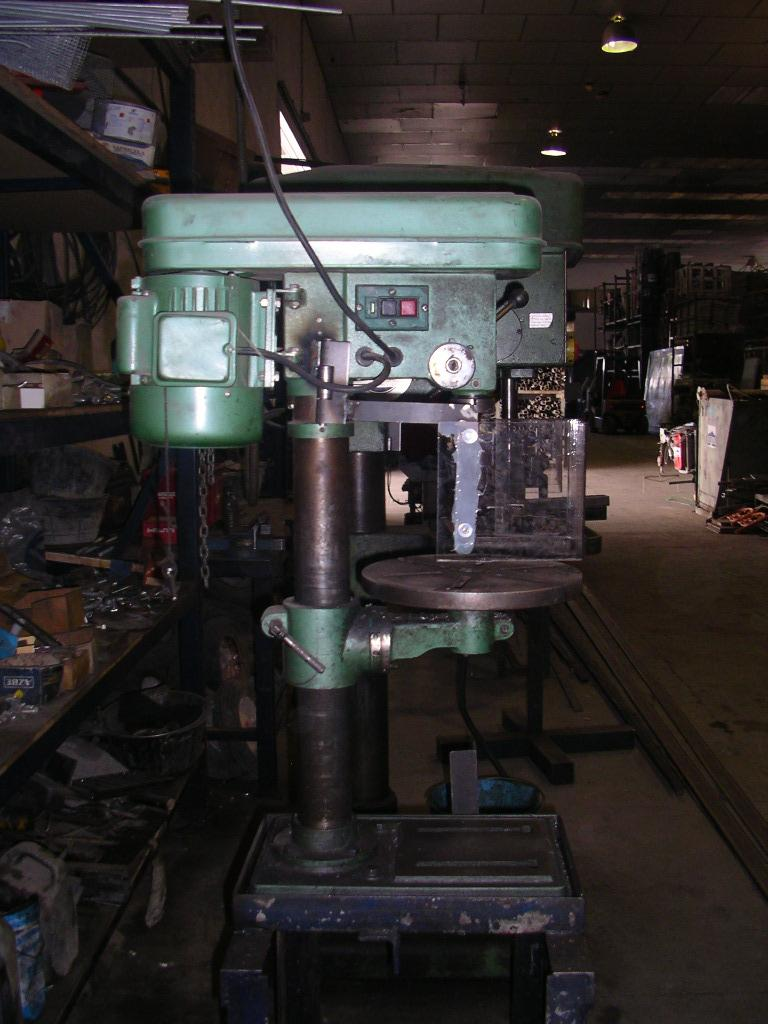mandos_inseguros: (351, 280, 433, 333)
sin_senalizacion_riesgos: (441, 280, 491, 335)
